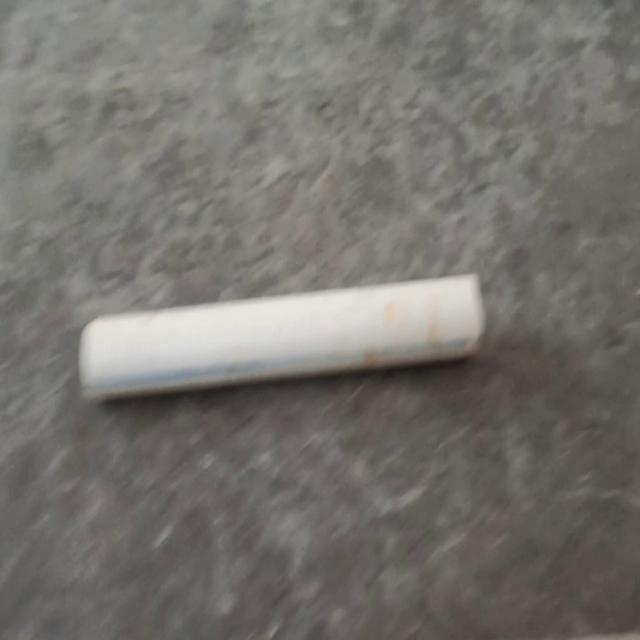Cube: (78, 269, 486, 403)
